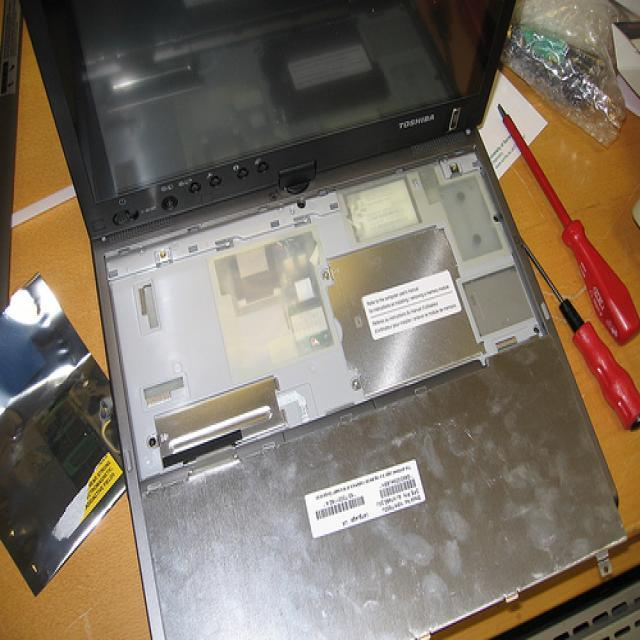screwdriver: (492, 94, 640, 350), (512, 220, 640, 430)
